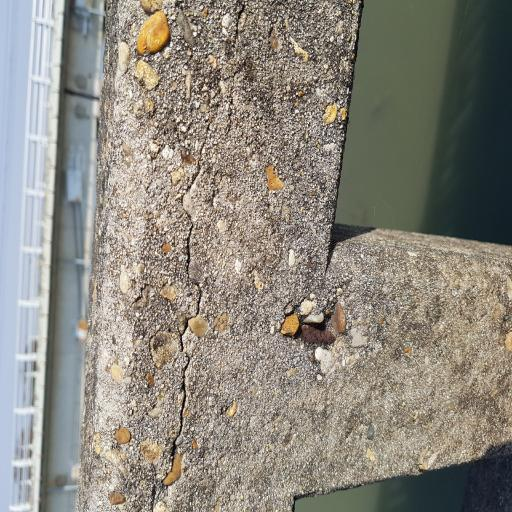exposed_rebar: (294, 324, 335, 345)
